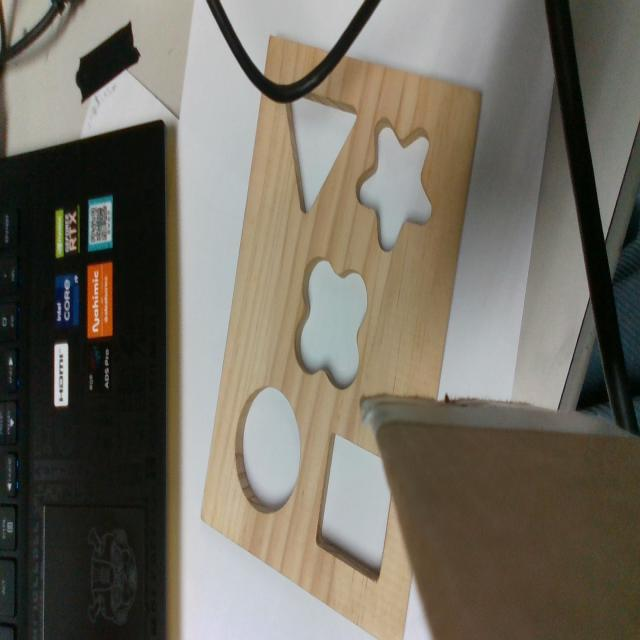circle: (234, 387, 300, 512)
flower: (295, 256, 368, 389)
square: (317, 434, 391, 581)
star: (357, 117, 431, 249)
triangle: (285, 91, 357, 213)
